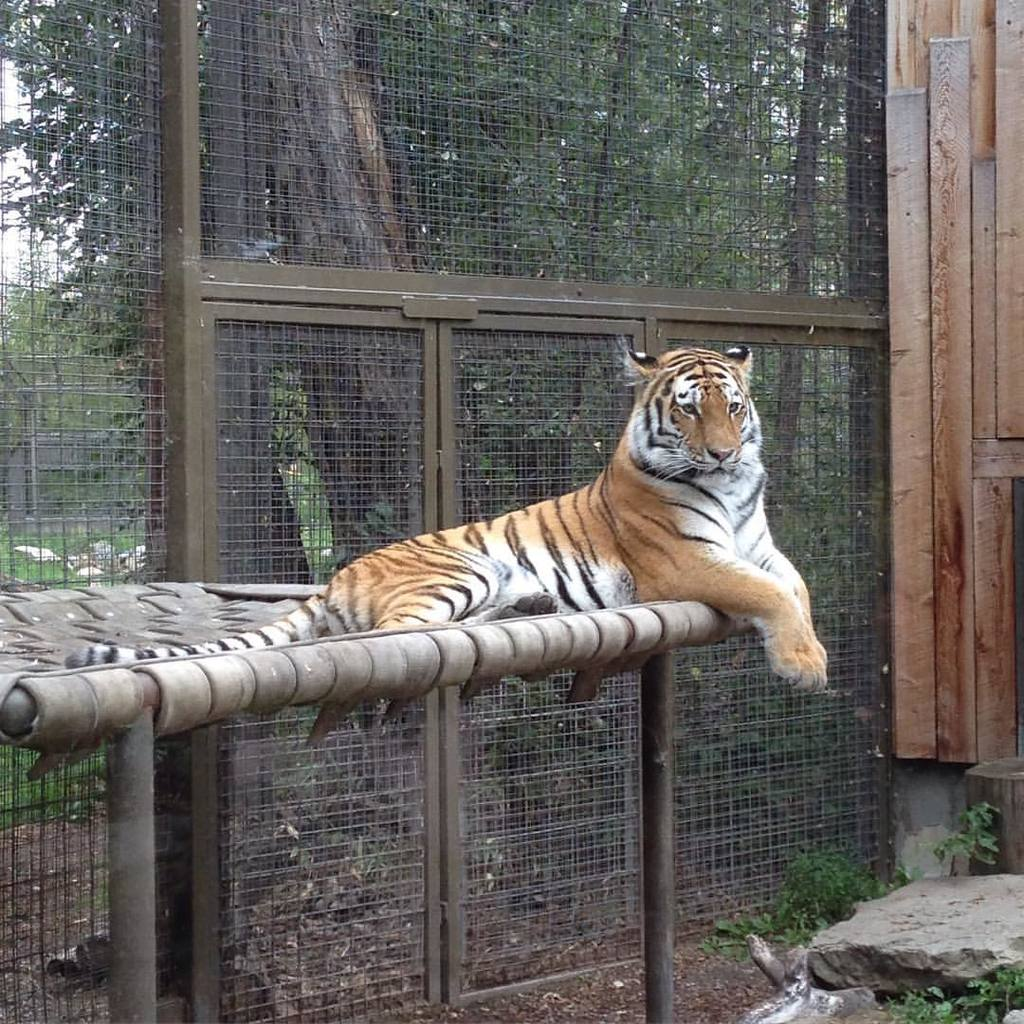Tree: (0, 0, 877, 1013)
